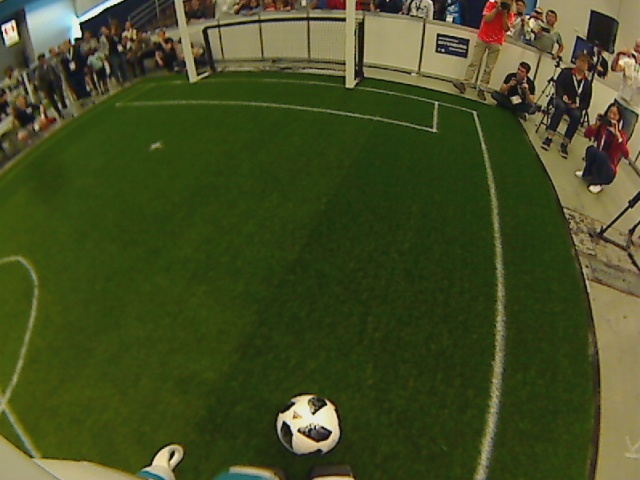ball: (273, 393, 343, 459)
